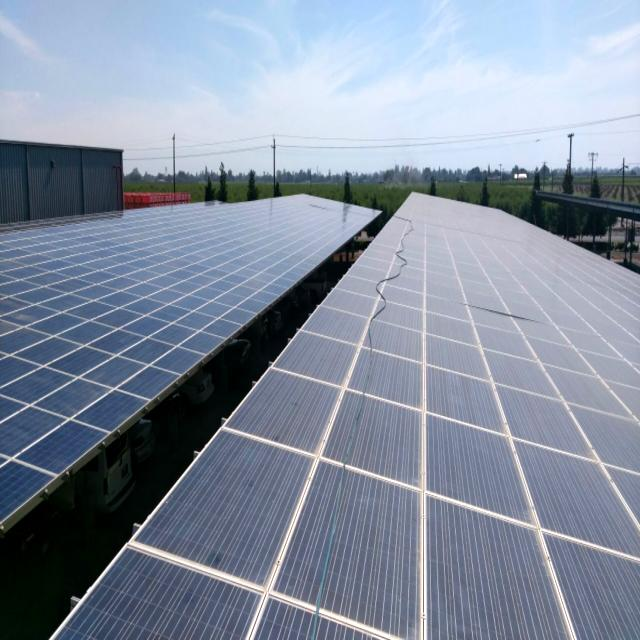dust: (432, 486, 552, 638), (324, 457, 416, 638), (165, 506, 285, 636), (530, 258, 624, 401), (433, 276, 499, 466), (563, 432, 640, 554), (341, 288, 408, 426), (399, 200, 464, 270), (266, 376, 326, 450)
